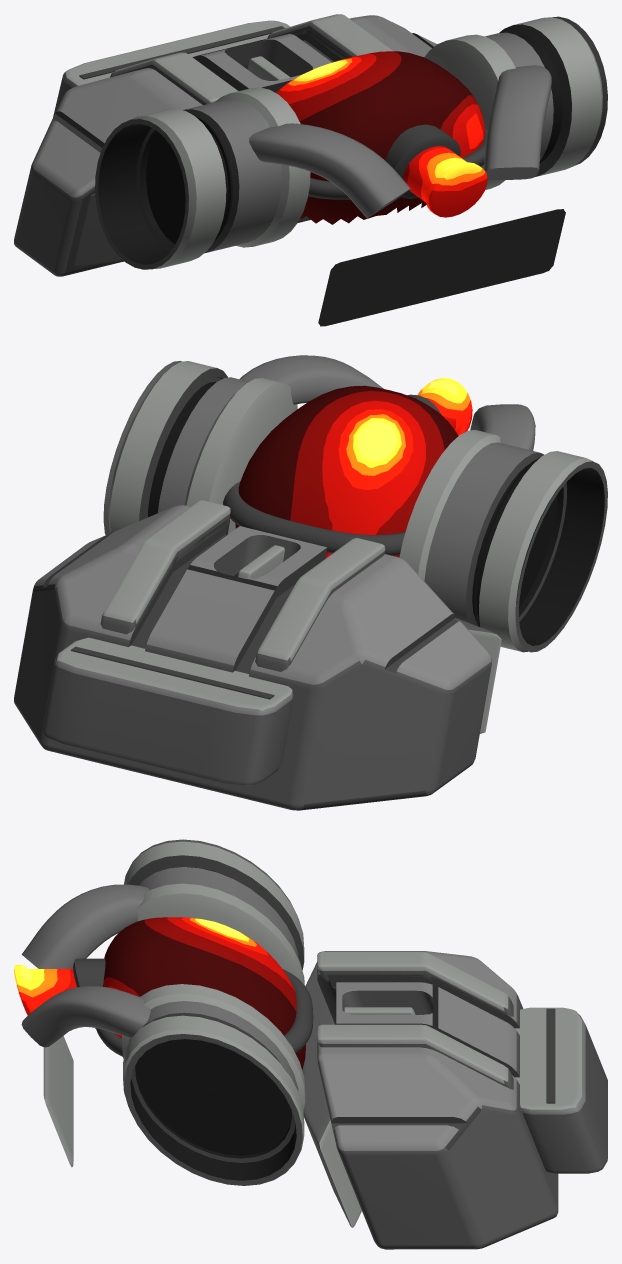
The model's file is pincer_core_top.glb.
3 views of the same model, one above another, from view 1: azimuth 30°, elevation 25°; view 2: azimuth 150°, elevation 25°; view 3: azimuth 270°, elevation 25° (orthographic). The views are drawn at different scales.
Parts seen in each view (by area): view 1: pincer_core_top; view 2: pincer_core_top; view 3: pincer_core_top.
Part boxes in pixels (bbox=[...]): pincer_core_top: bbox=[14, 14, 607, 326]; pincer_core_top: bbox=[14, 355, 607, 810]; pincer_core_top: bbox=[14, 839, 607, 1249].
Size of the model in its own units: 24 by 13.3 by 30.99.
